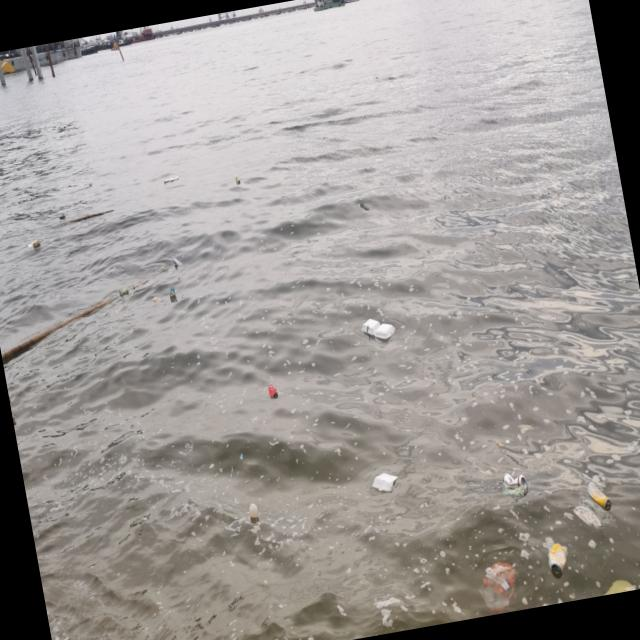can: (585, 478, 612, 512), (545, 540, 568, 576), (501, 469, 528, 495), (268, 383, 278, 397), (172, 256, 182, 266), (168, 286, 176, 297), (234, 175, 240, 182)
foam: (359, 313, 396, 342), (369, 470, 398, 494), (163, 176, 179, 183)
plastic bottle: (474, 556, 520, 614)
unknow: (572, 501, 605, 542), (600, 576, 636, 596), (502, 486, 524, 499), (248, 502, 260, 518), (359, 200, 369, 211), (118, 286, 128, 294), (32, 238, 40, 246), (150, 296, 160, 302), (12, 412, 16, 422), (58, 214, 65, 219)
